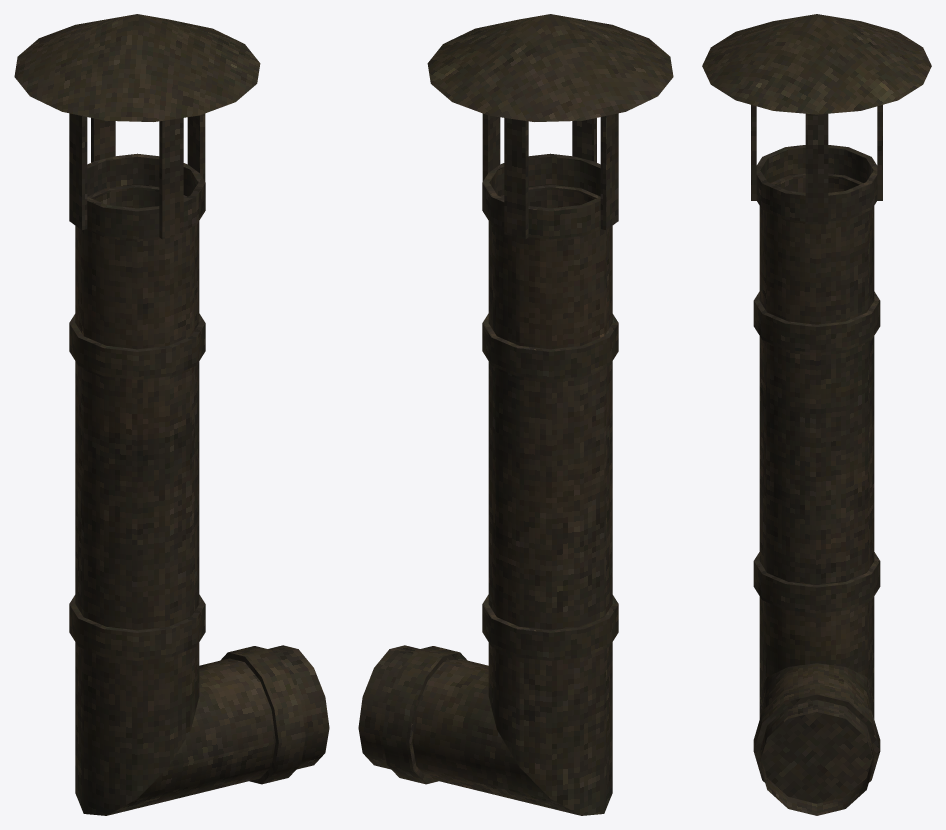
The model's file is chimney_a_3_1.glb.
3 renders of one model, left to right at view 1: azimuth 30°, elevation 25°; view 2: azimuth 150°, elevation 25°; view 3: azimuth 270°, elevation 25°, orthographic. The views are drawn at different scales.
Parts seen in each view (by area): view 1: chimney_a_3_1; view 2: chimney_a_3_1; view 3: chimney_a_3_1.
Part boxes in pixels (bbox=[...]): chimney_a_3_1: bbox=[14, 14, 329, 815]; chimney_a_3_1: bbox=[358, 14, 673, 815]; chimney_a_3_1: bbox=[702, 14, 931, 815].
Size of the model in its own units: 0.5 by 1.41 by 0.4.
Materials: 1 (1 with a texture image).
